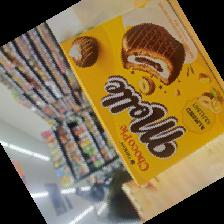Molle: (56, 2, 224, 186)
